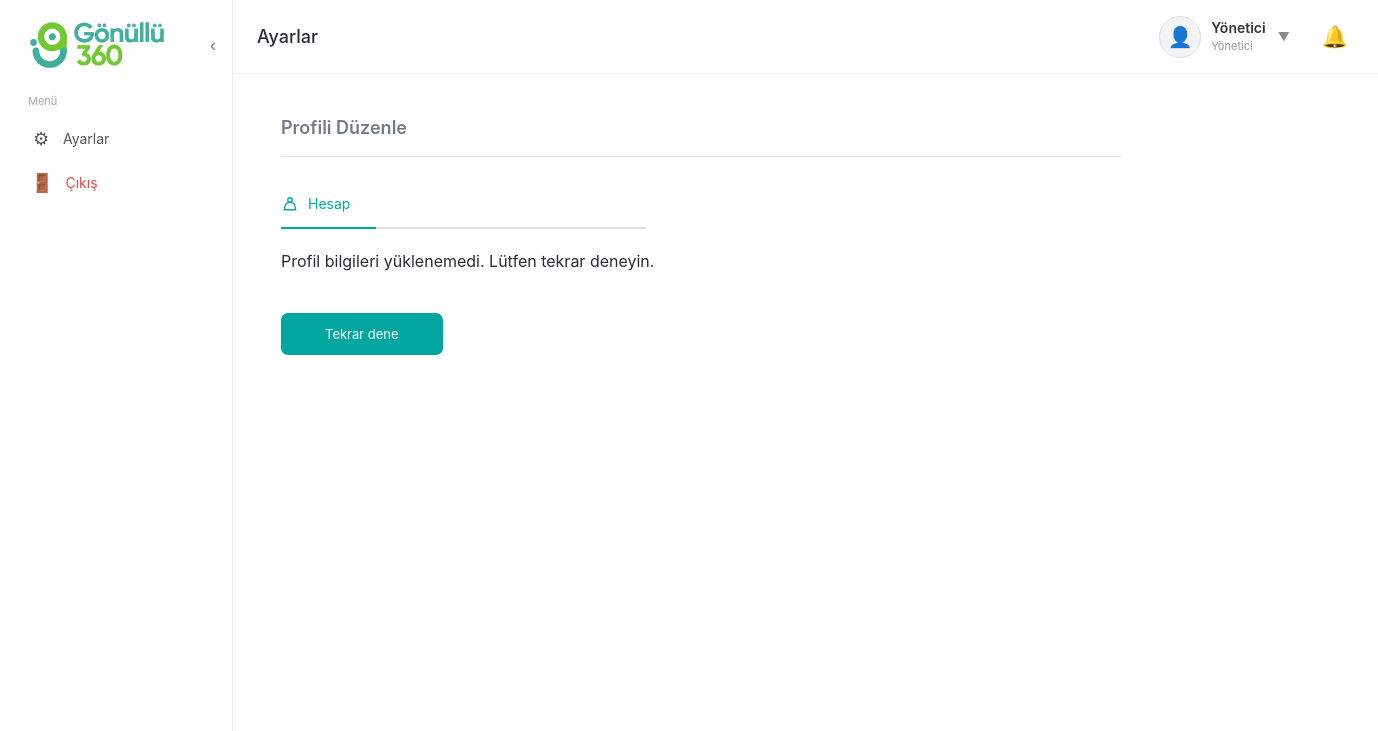
it: allows retry after loading fails without submitting empty data
The image size is (1378, 731).
Click the button "Tekrar dene": (362, 334) x1=281 y1=313 x2=443 y2=355
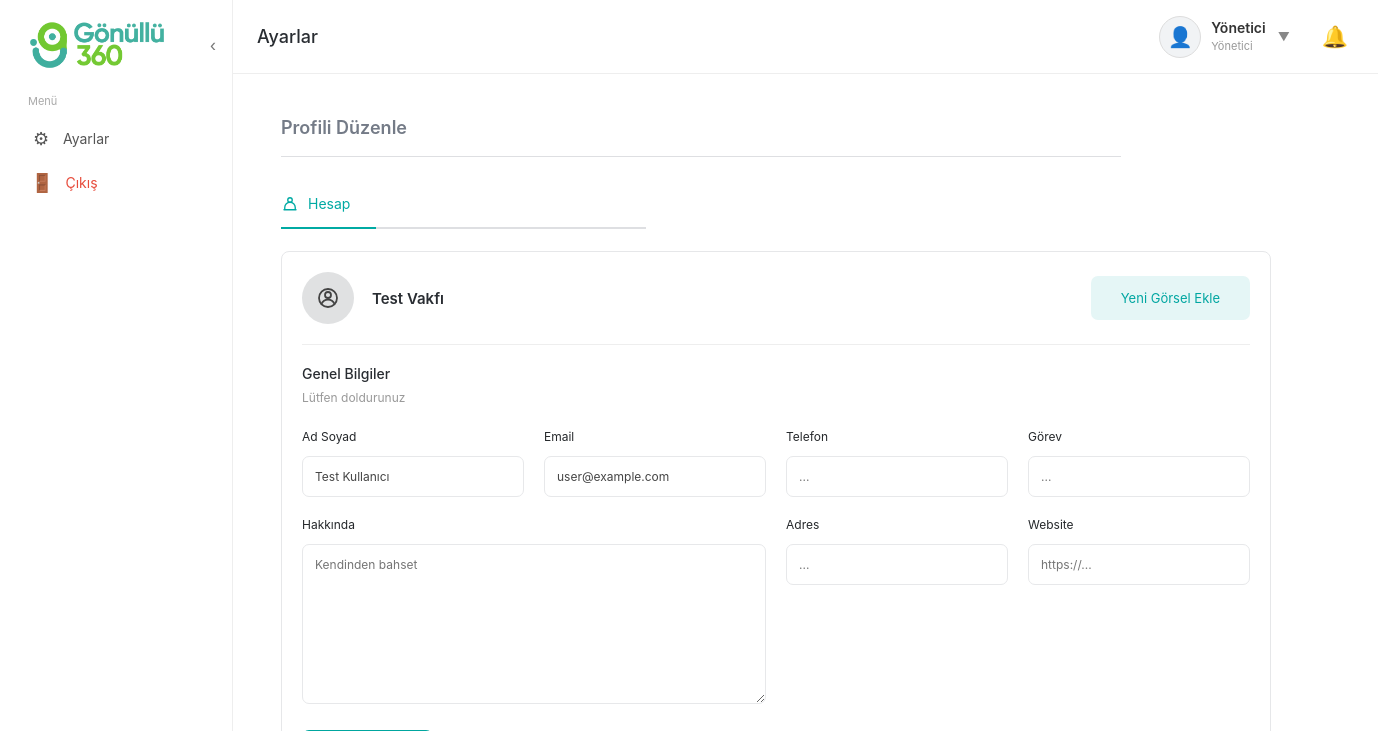
Now the field showing "Test Kullanıcı" is shown, box x1=302 y1=456 x2=524 y2=497
